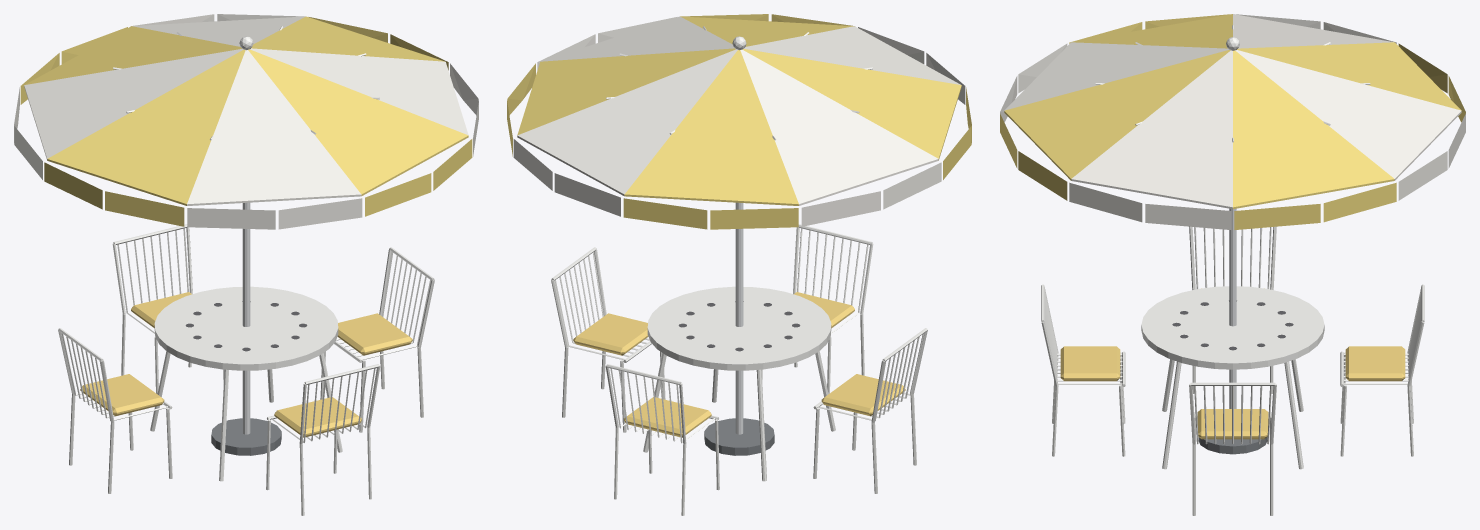
The model's file is umbrella_table.glb.
The picture shows the model from 3 angles, left to right: view 1: azimuth 30°, elevation 25°; view 2: azimuth 150°, elevation 25°; view 3: azimuth 270°, elevation 25°; orthographic projection.
Parts seen in each view (by area): view 1: umbrella_table_umb_y, umbrella_table_umb_w, umbrella_table_paint_w, umbrella_table_accent3, umbrella_table_steel_d, umbrella_table_chrome; view 2: umbrella_table_umb_w, umbrella_table_umb_y, umbrella_table_paint_w, umbrella_table_accent3, umbrella_table_steel_d, umbrella_table_chrome; view 3: umbrella_table_umb_w, umbrella_table_umb_y, umbrella_table_paint_w, umbrella_table_accent3, umbrella_table_chrome, umbrella_table_steel_d.
Part boxes in pixels (x1,y1,x2,y2): umbrella_table_umb_y: [20, 16, 472, 226]; umbrella_table_umb_w: [14, 14, 478, 229]; umbrella_table_paint_w: [58, 26, 434, 515]; umbrella_table_accent3: [80, 292, 412, 437]; umbrella_table_steel_d: [211, 418, 281, 455]; umbrella_table_chrome: [242, 202, 250, 434]; umbrella_table_umb_w: [513, 16, 965, 226]; umbrella_table_umb_y: [507, 14, 971, 229]; umbrella_table_paint_w: [551, 26, 927, 515]; umbrella_table_accent3: [573, 292, 905, 437]; umbrella_table_steel_d: [704, 418, 774, 455]; umbrella_table_chrome: [735, 202, 743, 434]; umbrella_table_umb_w: [1000, 14, 1465, 229]; umbrella_table_umb_y: [1000, 14, 1465, 229]; umbrella_table_paint_w: [1041, 25, 1424, 515]; umbrella_table_accent3: [1060, 288, 1405, 439]; umbrella_table_chrome: [1229, 208, 1236, 408]; umbrella_table_steel_d: [1198, 437, 1267, 454].
Bounding box in the file's own units: 2.65 × 2.52 × 2.65.
